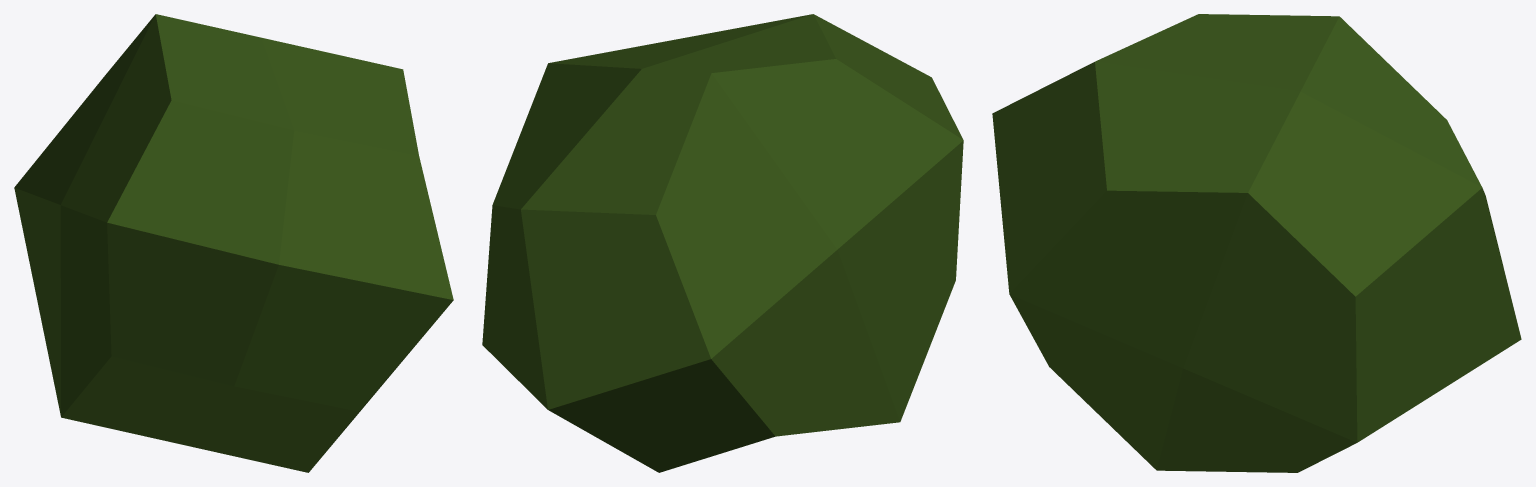
The model's file is piedra_001.glb.
The picture shows the model from 3 angles, left to right: view 1: azimuth 30°, elevation 25°; view 2: azimuth 150°, elevation 25°; view 3: azimuth 270°, elevation 25°; orthographic projection. The views are drawn at different scales.
Parts seen in each view (by area): view 1: piedra_001-col; view 2: piedra_001-col; view 3: piedra_001-col.
Boxes of the visible parts, left/top/right/bottom form: piedra_001-col: left=14, top=14, right=453, bottom=472; piedra_001-col: left=482, top=14, right=963, bottom=472; piedra_001-col: left=992, top=14, right=1521, bottom=472.
Bounding box in the file's own units: 0.6627 × 0.7198 × 0.818.
